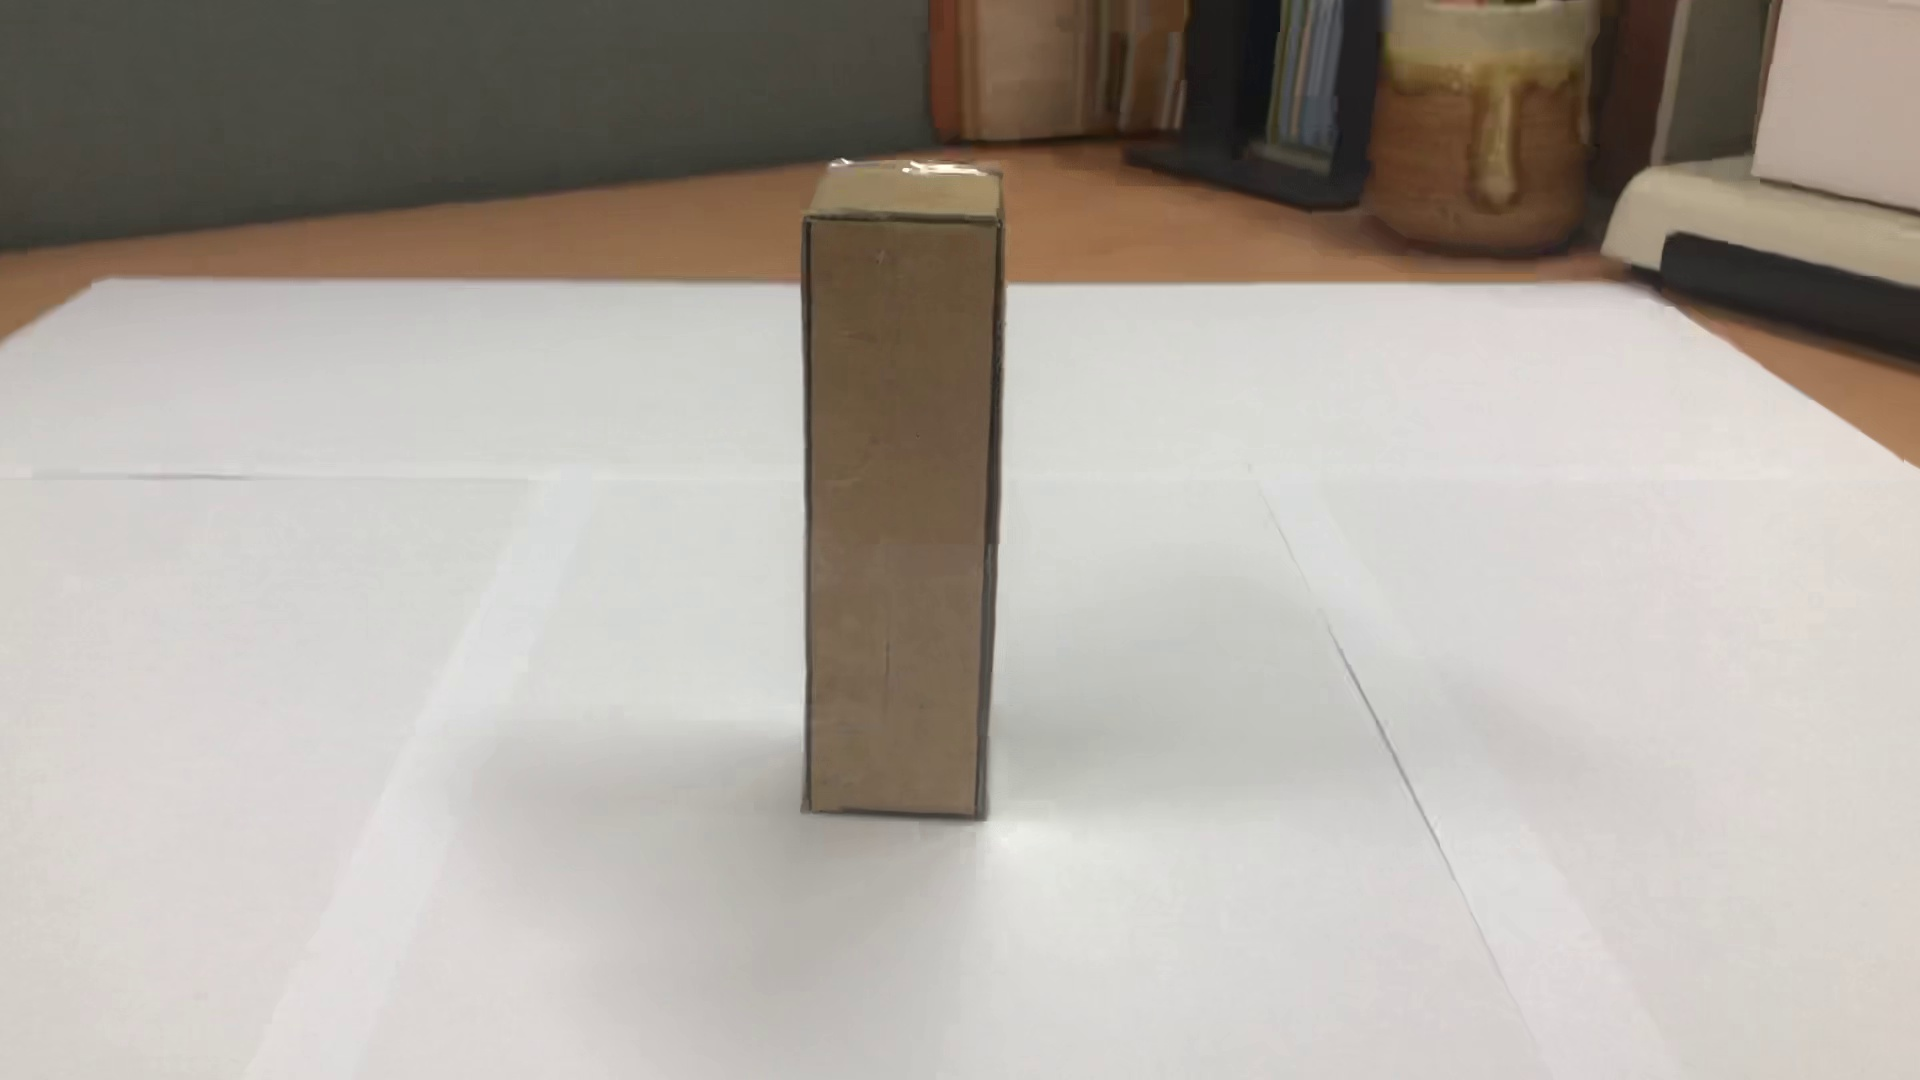box: (785, 138, 1022, 852)
